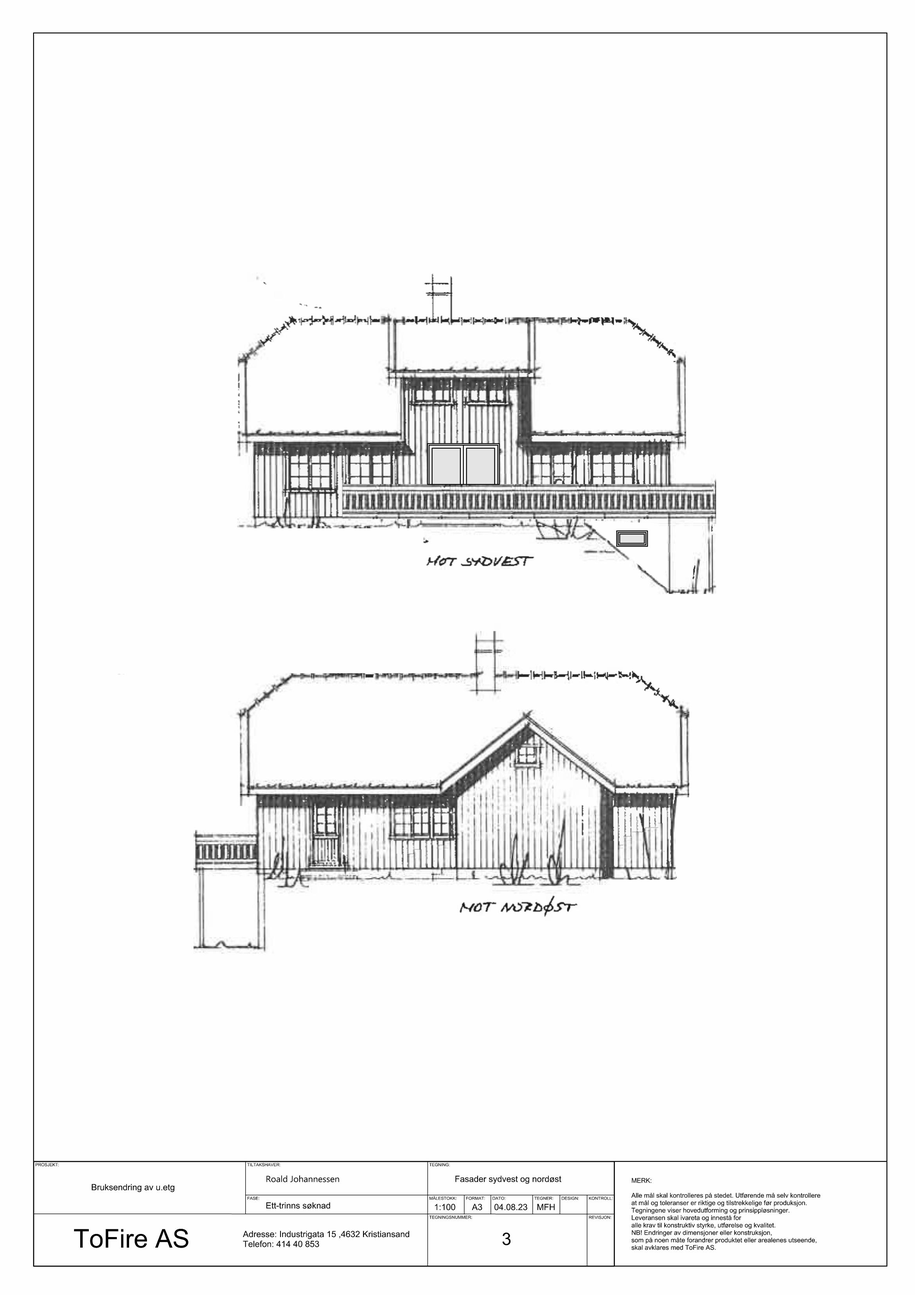fasade: (190, 630, 693, 954), (230, 271, 713, 591)
tekst: (452, 894, 581, 922), (425, 552, 538, 572)
